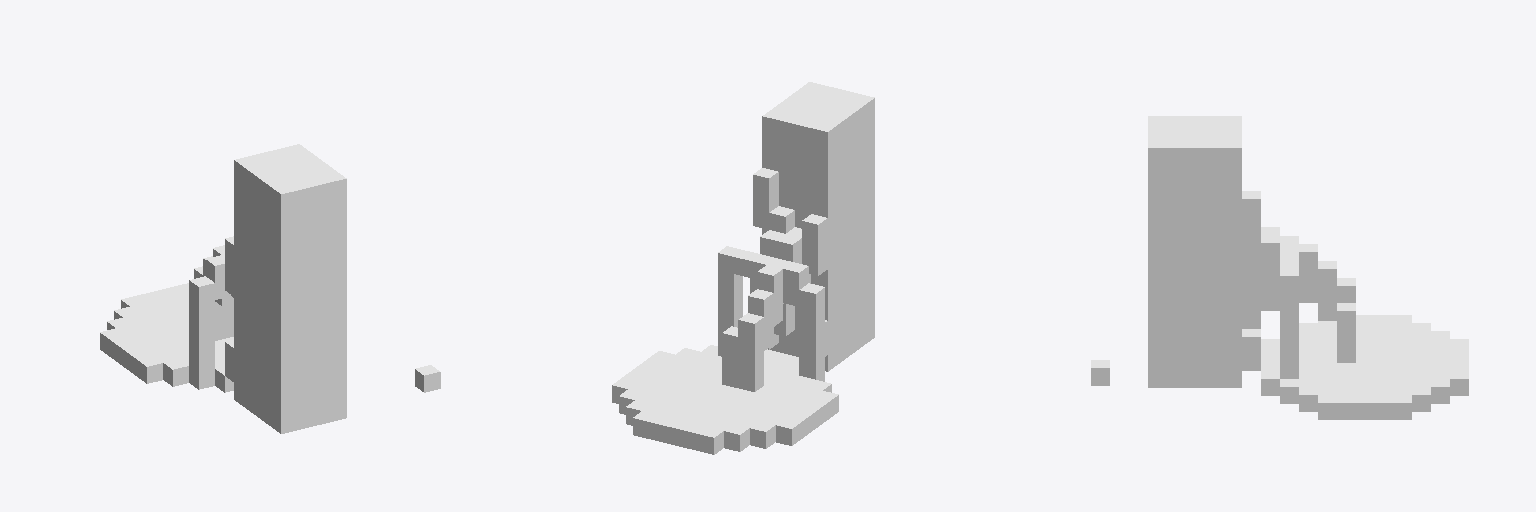
3 renders of one model, left to right at view 1: azimuth 30°, elevation 25°; view 2: azimuth 150°, elevation 25°; view 3: azimuth 270°, elevation 25°, orthographic.
Visible parts, largest first — view 1: object 1; view 2: object 1; view 3: object 1.
Boxes of the visible parts, x1=… form: object 1: x1=100, y1=144, x2=440, y2=433; object 1: x1=612, y1=82, x2=874, y2=454; object 1: x1=1091, y1=116, x2=1468, y2=419.
Bounding box in the file's own units: 1.1 × 1.4 × 2.
Materials: 1 (1 with a texture image).